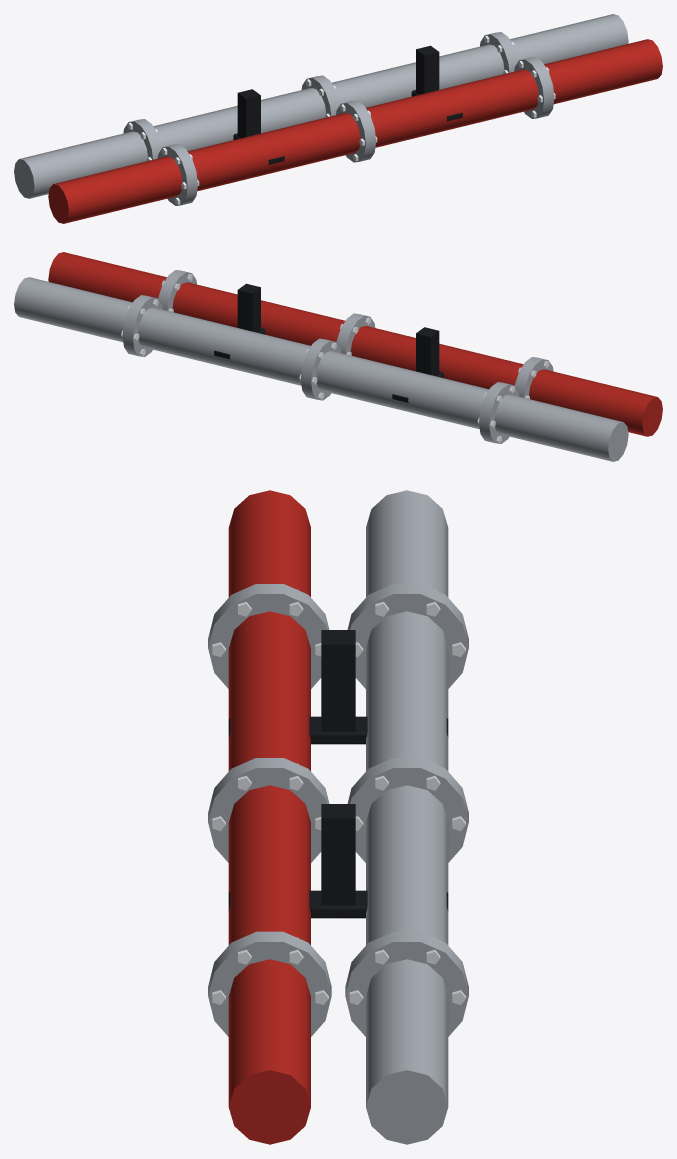
Rendered from pipe_ceiling_flanged_twin.glb.
3 renders of one model, top to bottom at view 1: azimuth 30°, elevation 25°; view 2: azimuth 150°, elevation 25°; view 3: azimuth 270°, elevation 25°, orthographic. The views are drawn at different scales.
Parts seen in each view (by area): view 1: pipe_ceiling_flanged_twin; view 2: pipe_ceiling_flanged_twin; view 3: pipe_ceiling_flanged_twin.
Boxes of the visible parts, x1,y1,x2,y2 form: pipe_ceiling_flanged_twin: (14,14,662,223); pipe_ceiling_flanged_twin: (14,252,662,461); pipe_ceiling_flanged_twin: (208,490,468,1144).
Bounding box in the file's own units: 2 × 0.2377 × 0.38.
